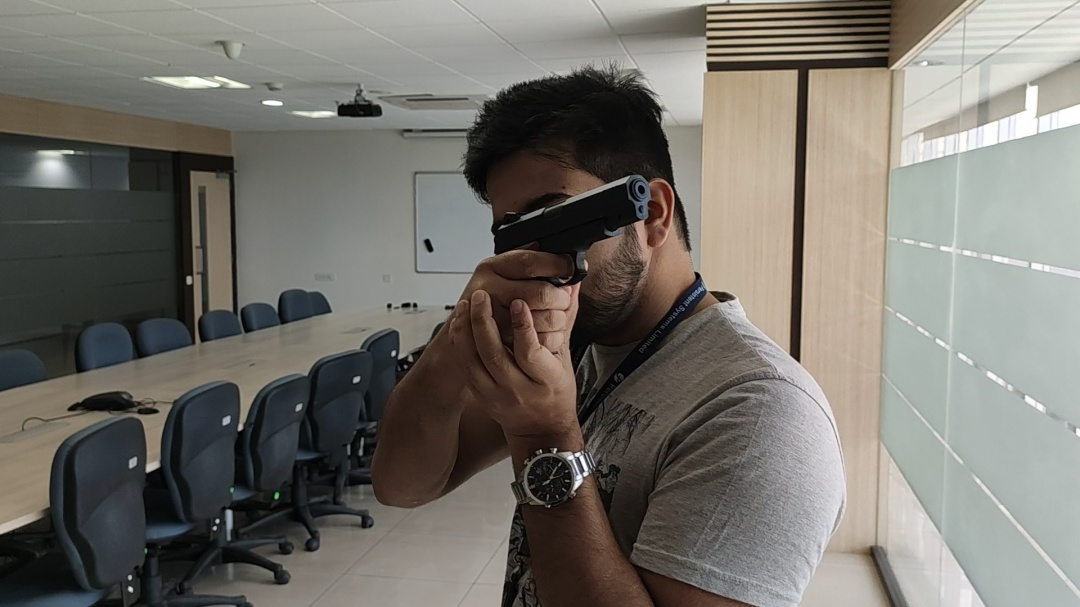gun: (494, 173, 651, 250)
